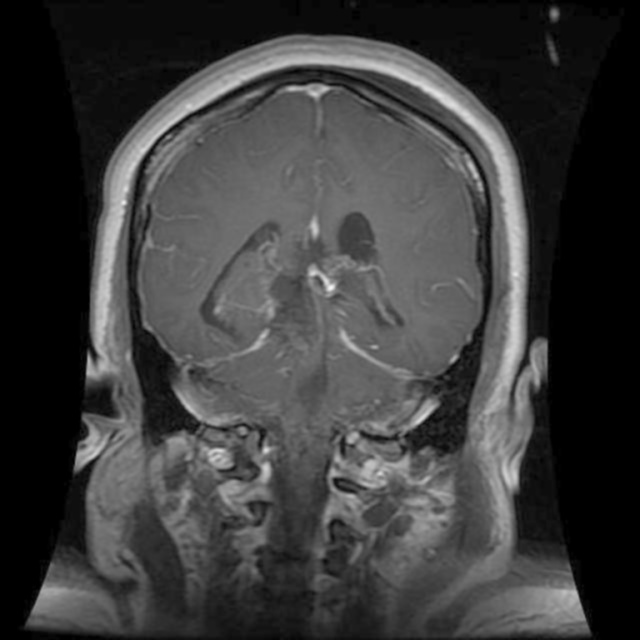pituitary tumor: (305, 260, 346, 301)
